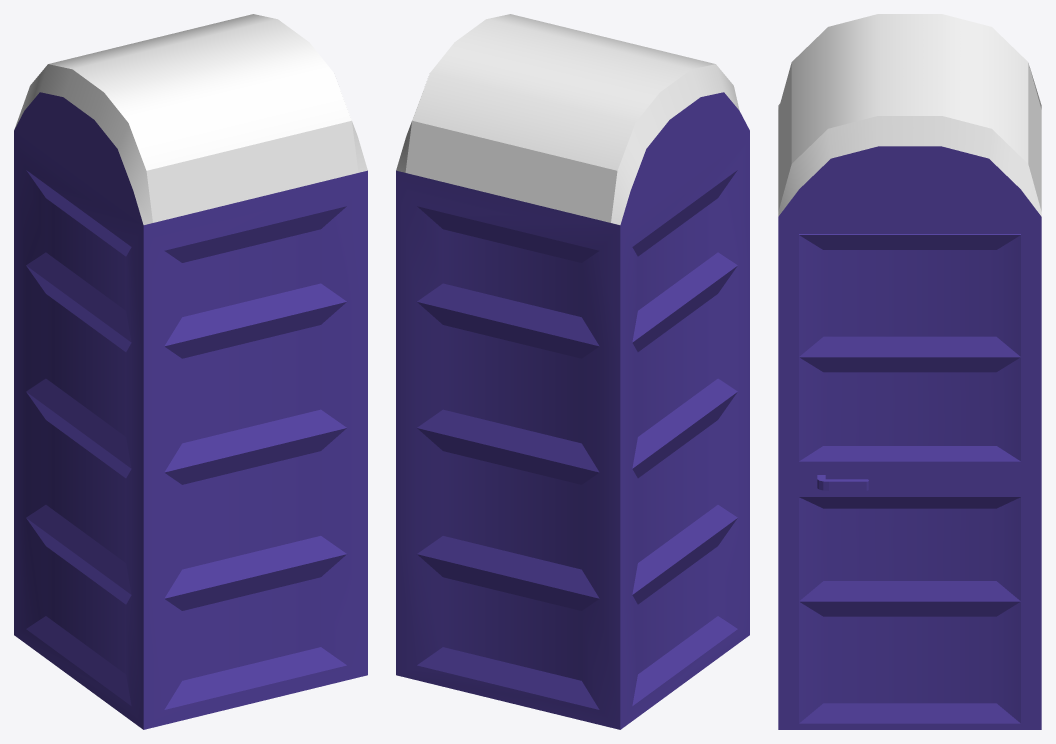
File: PortaPotty.fbx
3 views of the same model, side by side, from view 1: azimuth 30°, elevation 25°; view 2: azimuth 150°, elevation 25°; view 3: azimuth 270°, elevation 25° (orthographic).
Parts seen in each view (by area): view 1: PortaPotty; view 2: PortaPotty; view 3: PortaPotty.
Part boxes in pixels (x1=…): PortaPotty: x1=14, y1=14, x2=367, y2=729; PortaPotty: x1=396, y1=14, x2=749, y2=729; PortaPotty: x1=778, y1=14, x2=1041, y2=729.
Size of the model in its own units: 113 by 270 by 106.
